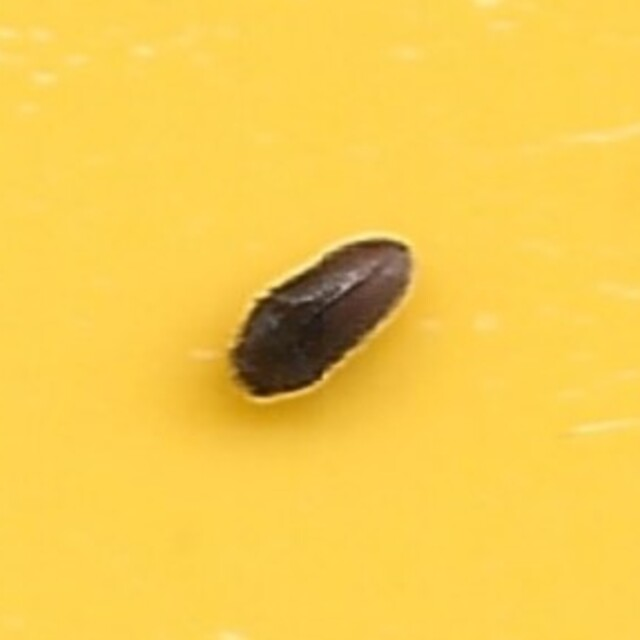Coleoptera: (223, 229, 417, 411)
